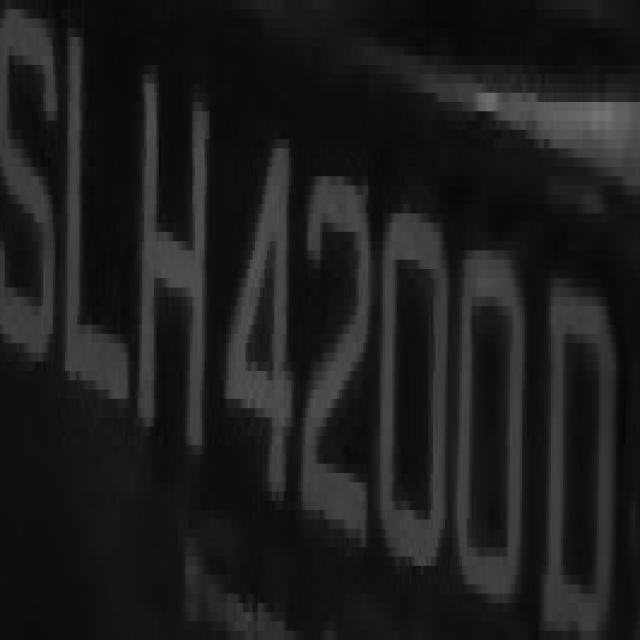0: (373, 167, 459, 603), (2, 3, 2, 9)
2: (301, 130, 380, 566)
4: (216, 93, 296, 519)
D: (536, 241, 618, 640)
H: (135, 56, 214, 482)
L: (62, 37, 132, 455)
S: (5, 9, 62, 408)
